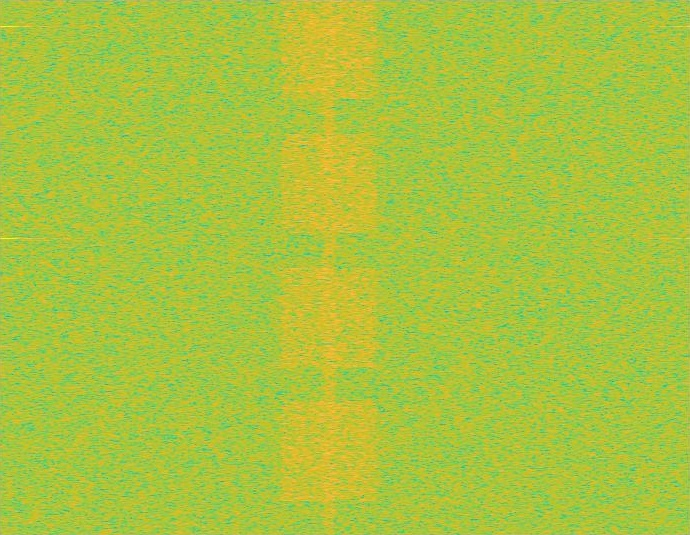5G: (278, 0, 381, 534)
DSSS: (322, 0, 336, 534)
Radar: (1, 0, 15, 534)
